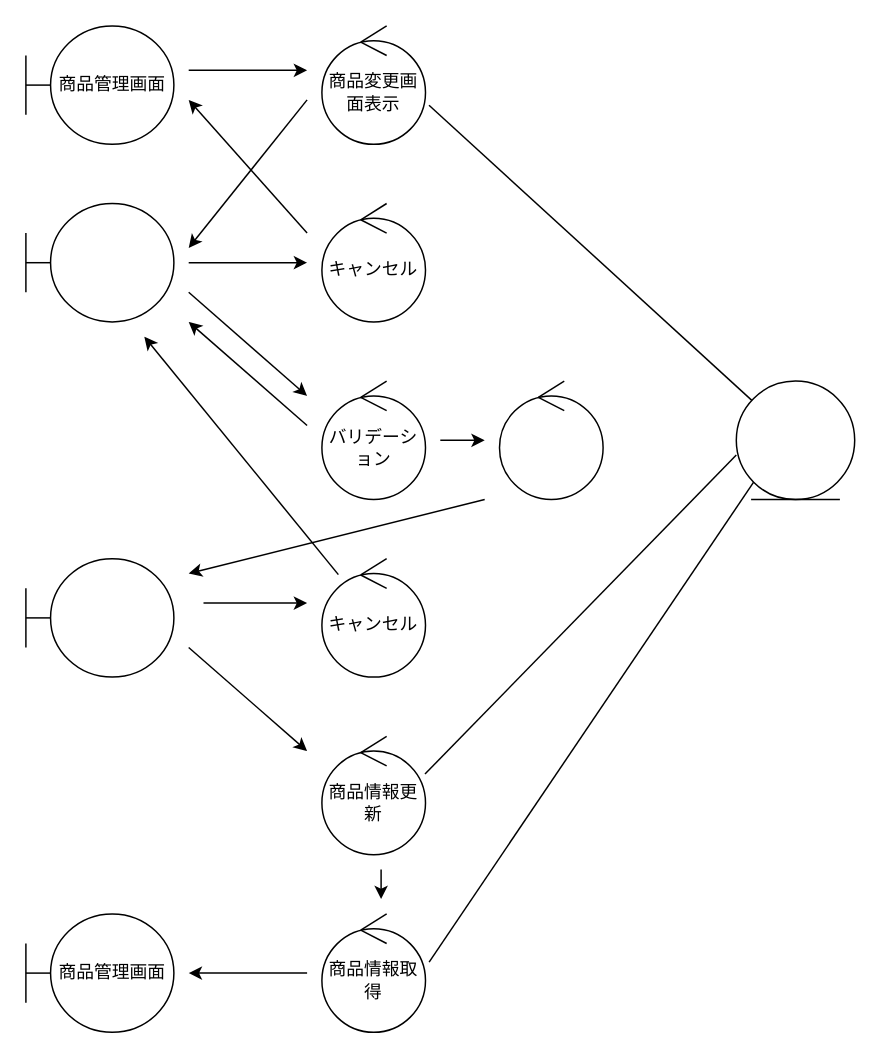
Some shapes in this 881 by 1058 pixel diagram are drawn without their labels. Here are the shapes that lost their labels. From the top down, the centre of each, then its label:
At [99,262]: "商品変更画面".
At [550,440]: "商品変更確認画面表示".
At [795,440]: "商品情報".
At [99,617]: "商品変更確認画面".
